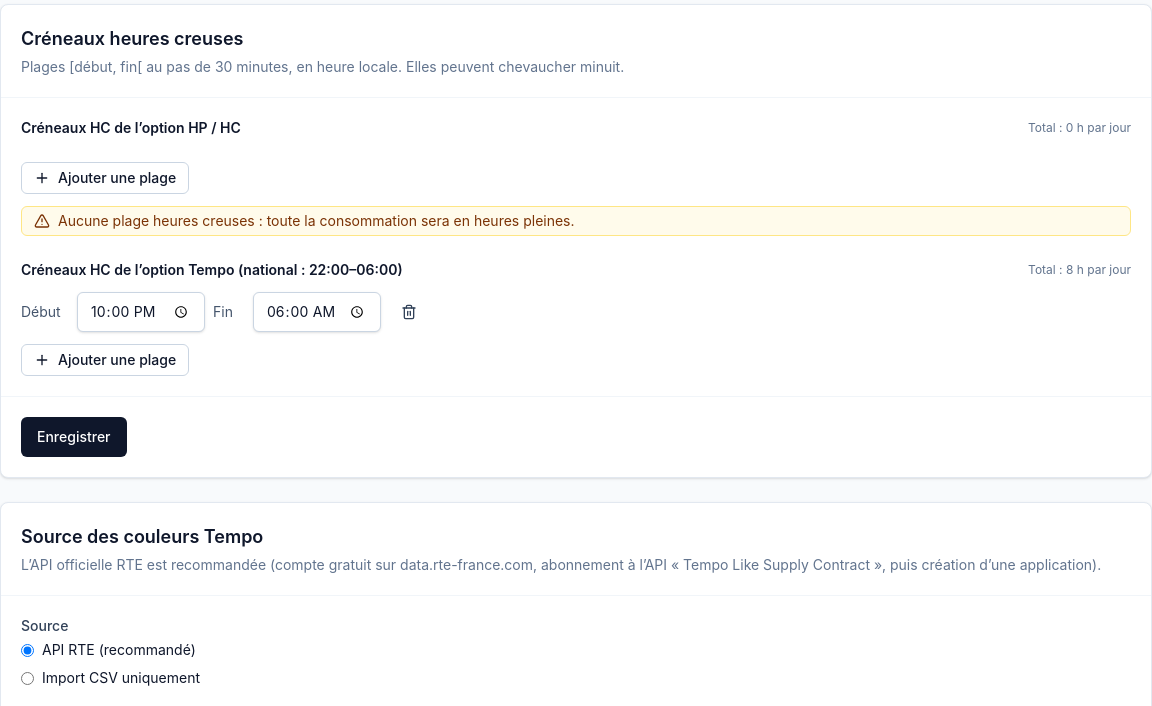
Test: SettingsPage › valide les créneaux HC en direct et bloque l’enregistrement
The image size is (1152, 706).
(page scrolled)
Expected: the heading "Créneaux heures creuses" is shown, top-left (21, 28), bottom-right (244, 49)
Click the 2nd button "Ajouter une plage" at (105,360), box top-left (21, 344), bottom-right (189, 376)
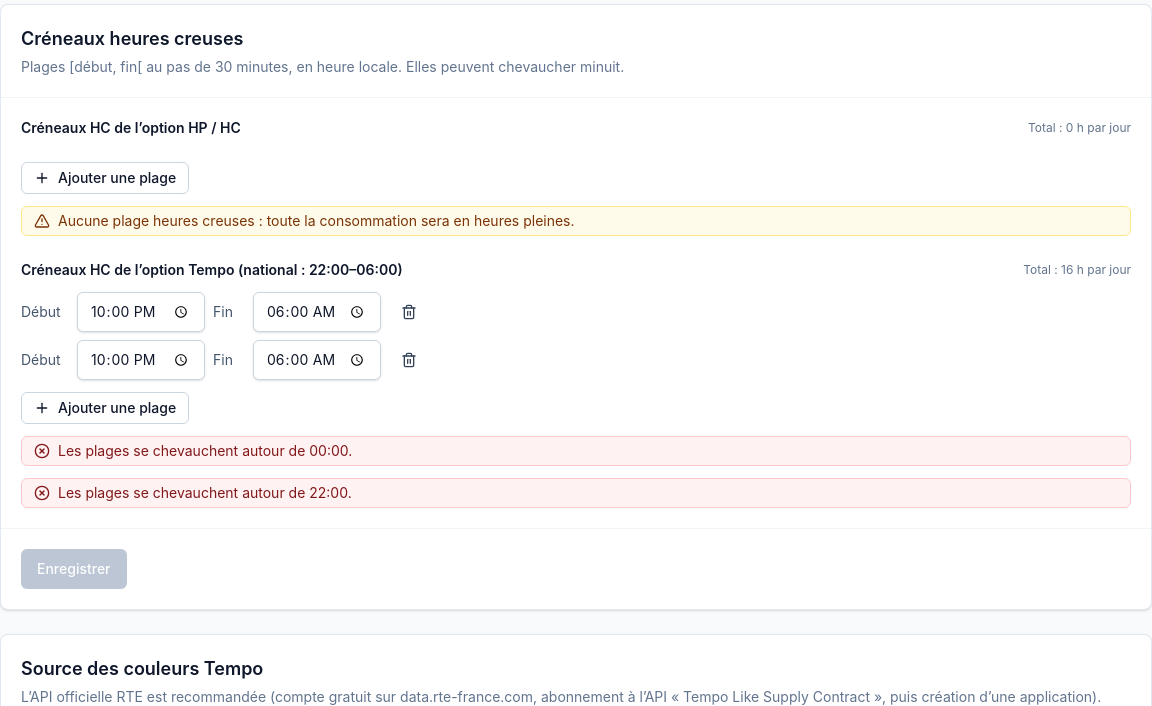
Result: the text "Les plages se chevauchent autour de 00:00." is shown at top-left (58, 442), bottom-right (352, 459)
Result: the button "Enregistrer" is disabled at top-left (21, 549), bottom-right (126, 589)
Suppression de la plage ajoutée → valide, 8 h
Click the button named "Supprimer la plage 2" at (409,360), box top-left (389, 344), bottom-right (429, 376)
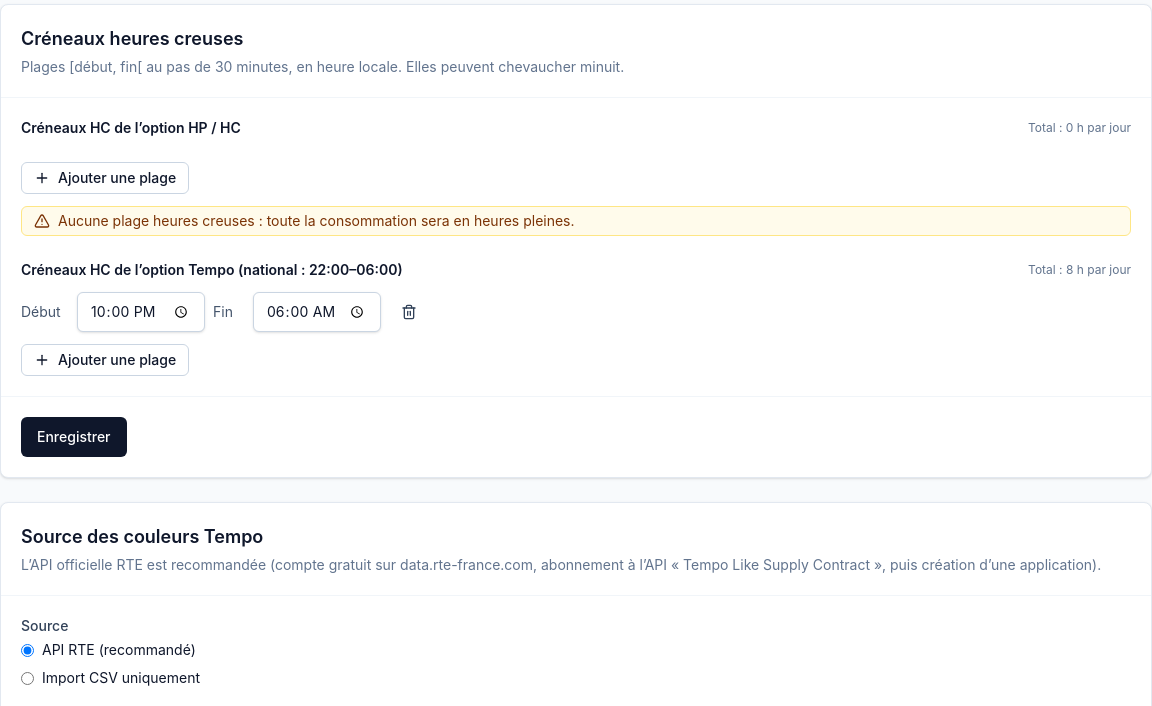
Result: the text "chevauchent" is not shown
Result: the button "Enregistrer" is enabled at top-left (21, 417), bottom-right (126, 457)
